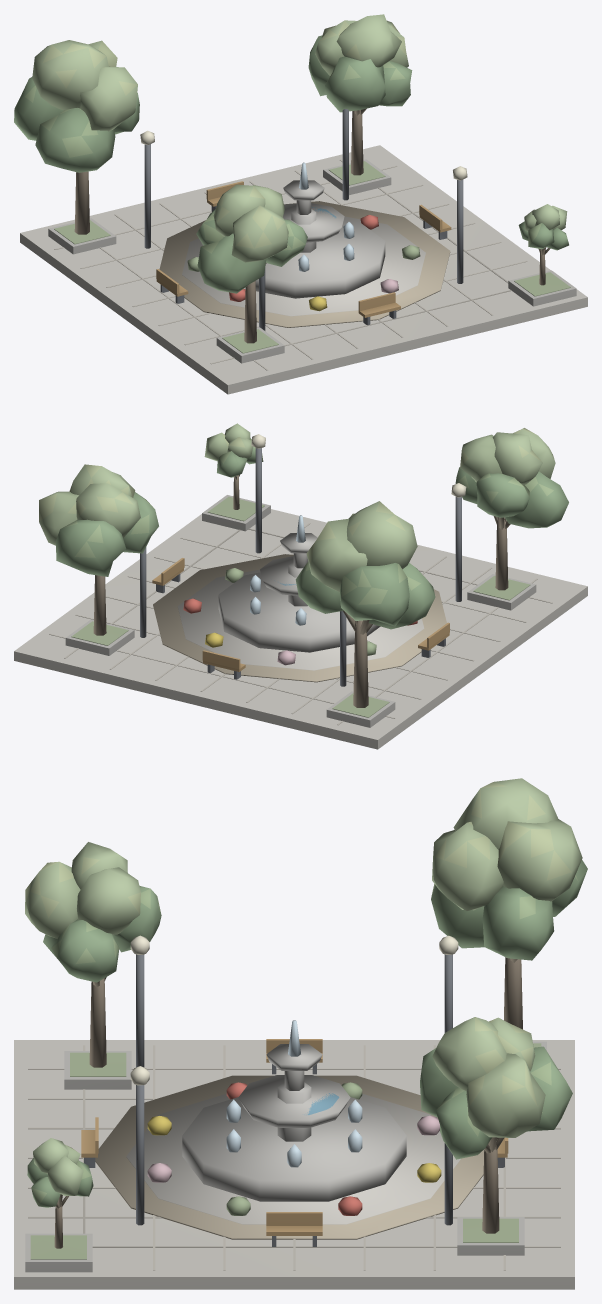
File: plaza.glb
3 renders of one model, top to bottom at view 1: azimuth 30°, elevation 25°; view 2: azimuth 150°, elevation 25°; view 3: azimuth 270°, elevation 25°, orthographic. The views are drawn at different scales.
Visible parts, largest first — view 1: plaza; view 2: plaza; view 3: plaza.
Part boxes in pixels (x1,y1,x2,y2): plaza: (14,14,587,394); plaza: (14,423,587,749); plaza: (14,778,587,1289).
Bounding box in the file's own units: 2.08 × 1.13 × 2.05.
